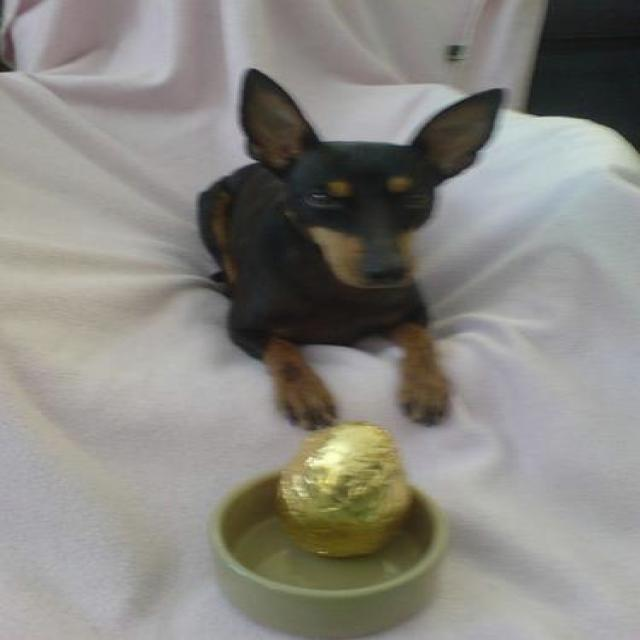toy_terrier: (191, 61, 512, 432)
